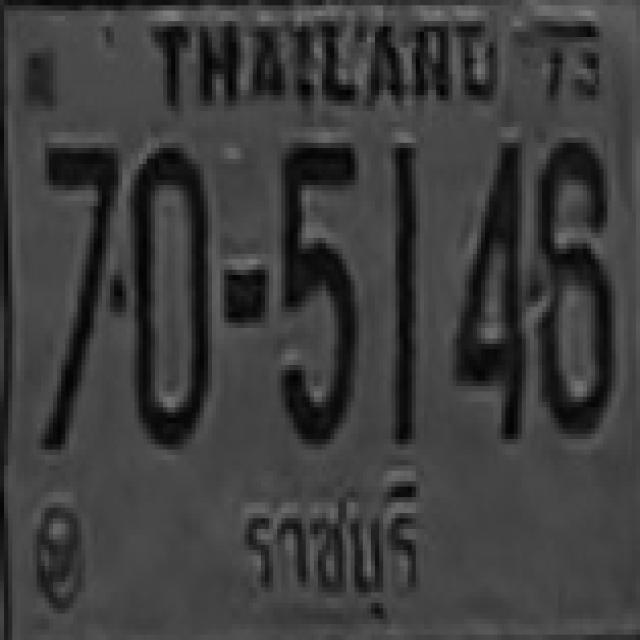0: (130, 146, 208, 442)
1: (391, 143, 416, 391)
4: (450, 140, 524, 437)
5: (279, 138, 357, 439), (279, 138, 357, 312)
7: (41, 143, 118, 333), (41, 143, 118, 307)
Ratchaburi: (229, 464, 424, 625)
